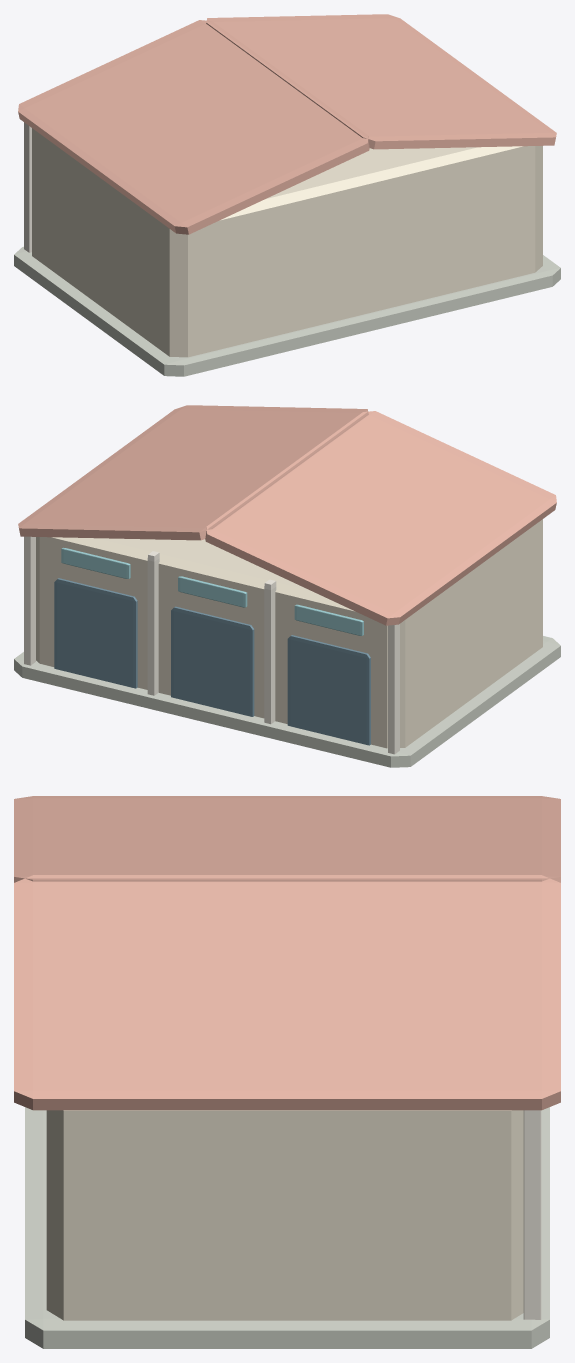
3 renders of one model, top to bottom at view 1: azimuth 30°, elevation 25°; view 2: azimuth 150°, elevation 25°; view 3: azimuth 270°, elevation 25°, orthographic. The views are drawn at different scales.
Parts seen in each view (by area): view 1: body, roof_a, roof_b, foundation, column0; view 2: roof_a, body, roof_b, foundation, door0, door1, door2, column1, column2, column0, column3, window0 (+2 smaller); view 3: roof_b, body, roof_a, foundation, column3.
Boxes of the visible parts, left/top/right/bottom form: body: left=32, top=128, right=542, bottom=357; roof_a: left=18, top=20, right=369, bottom=234; roof_b: left=206, top=14, right=556, bottom=149; foundation: left=14, top=246, right=560, bottom=376; column0: left=24, top=122, right=31, bottom=252; roof_a: left=205, top=411, right=556, bottom=625; body: left=36, top=519, right=542, bottom=748; roof_b: left=18, top=405, right=368, bottom=540; foundation: left=14, top=636, right=560, bottom=767; door0: left=287, top=635, right=370, bottom=745; door1: left=171, top=606, right=254, bottom=716; door2: left=54, top=578, right=137, bottom=688; column1: left=264, top=579, right=276, bottom=724; column2: left=147, top=551, right=159, bottom=695; column0: left=388, top=624, right=399, bottom=754; column3: left=24, top=536, right=35, bottom=665; window0: left=294, top=604, right=363, bottom=635; roof_b: left=14, top=875, right=560, bottom=1110; body: left=46, top=1110, right=523, bottom=1320; roof_a: left=14, top=796, right=560, bottom=882; foundation: left=25, top=1107, right=549, bottom=1348; column3: left=523, top=1110, right=541, bottom=1319.
Size of the model in its own units: 17 by 7.94 by 12.5.
